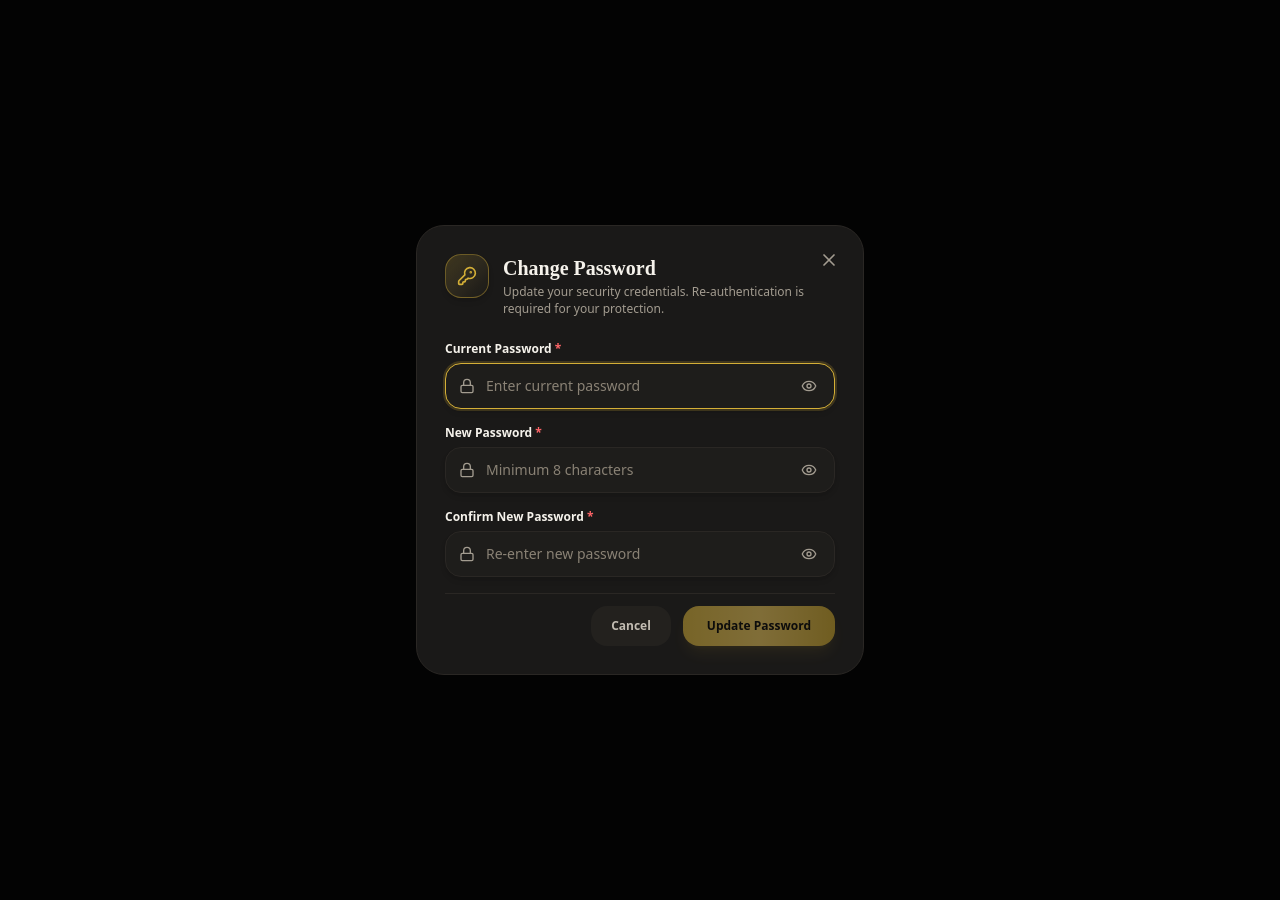
Test: ChangePasswordModal › shows error if confirm password does not match
This screenshot has width=1280, height=900.
Type "NewPass123!" into the password field with placeholder "Minimum 8 characters" at (640, 470), box [445,447,835,493]
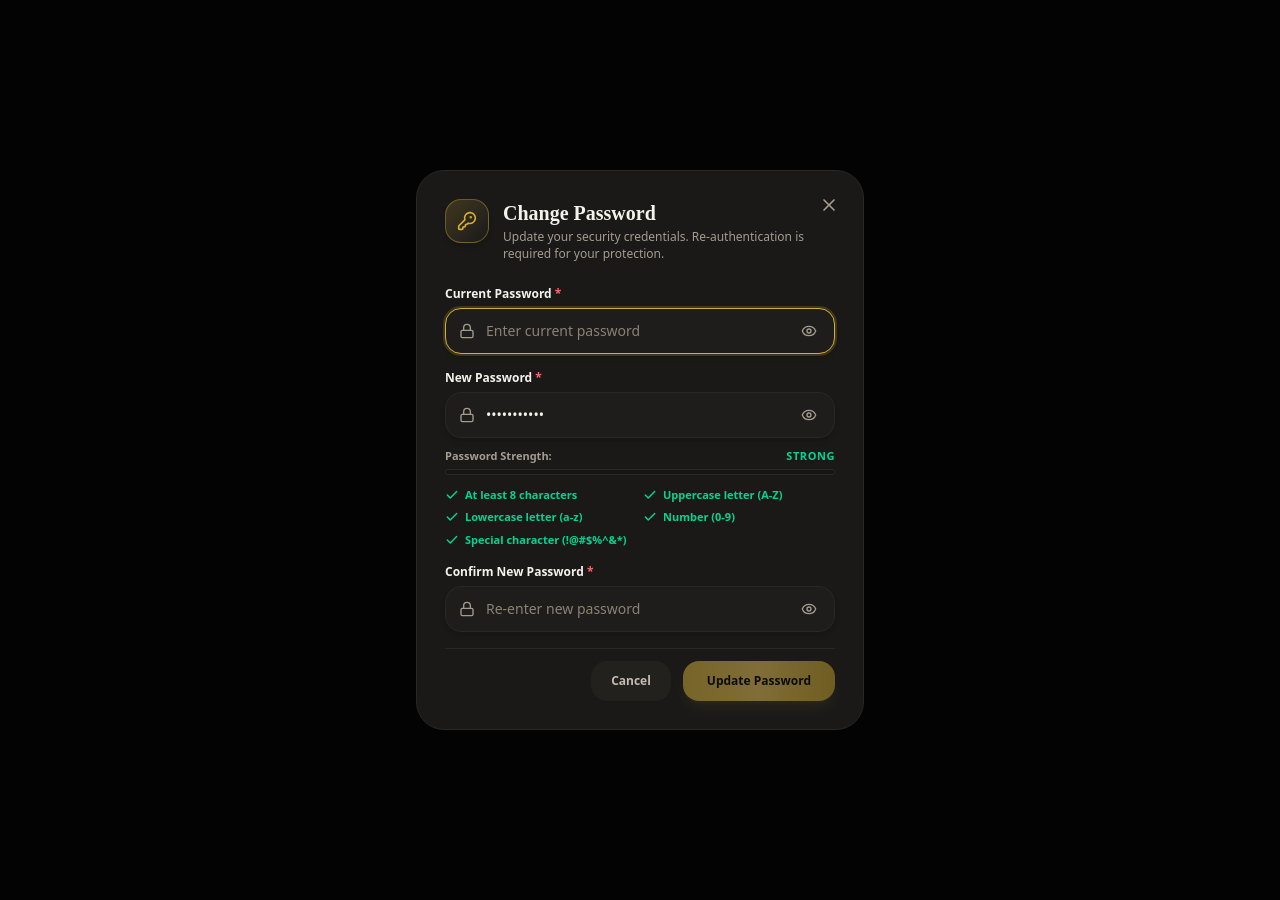
Type "Different123!" into the password field with placeholder "Re-enter new password" at (640, 609), box [445,586,835,632]
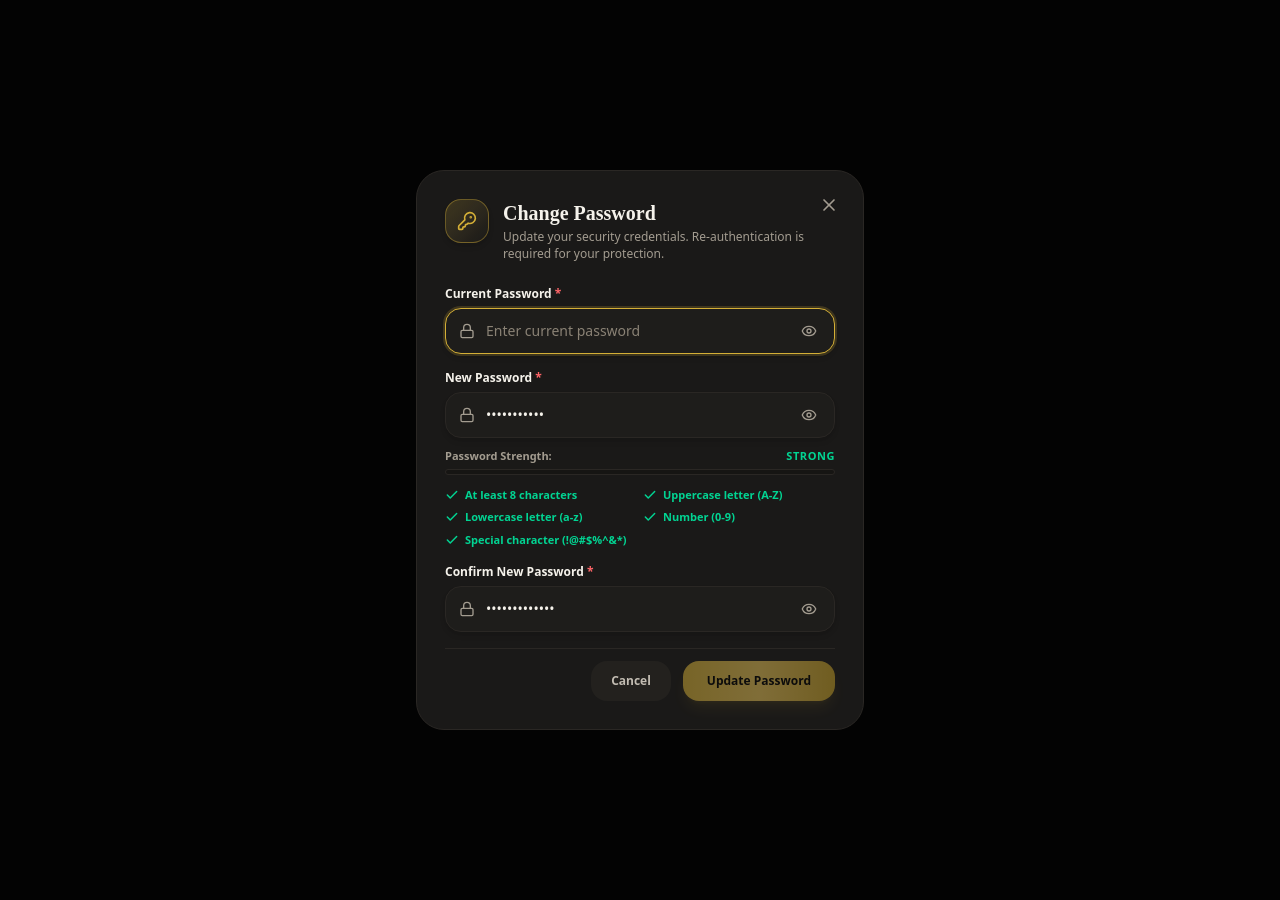
Leave the password field with placeholder "Re-enter new password", box [445,586,835,632]
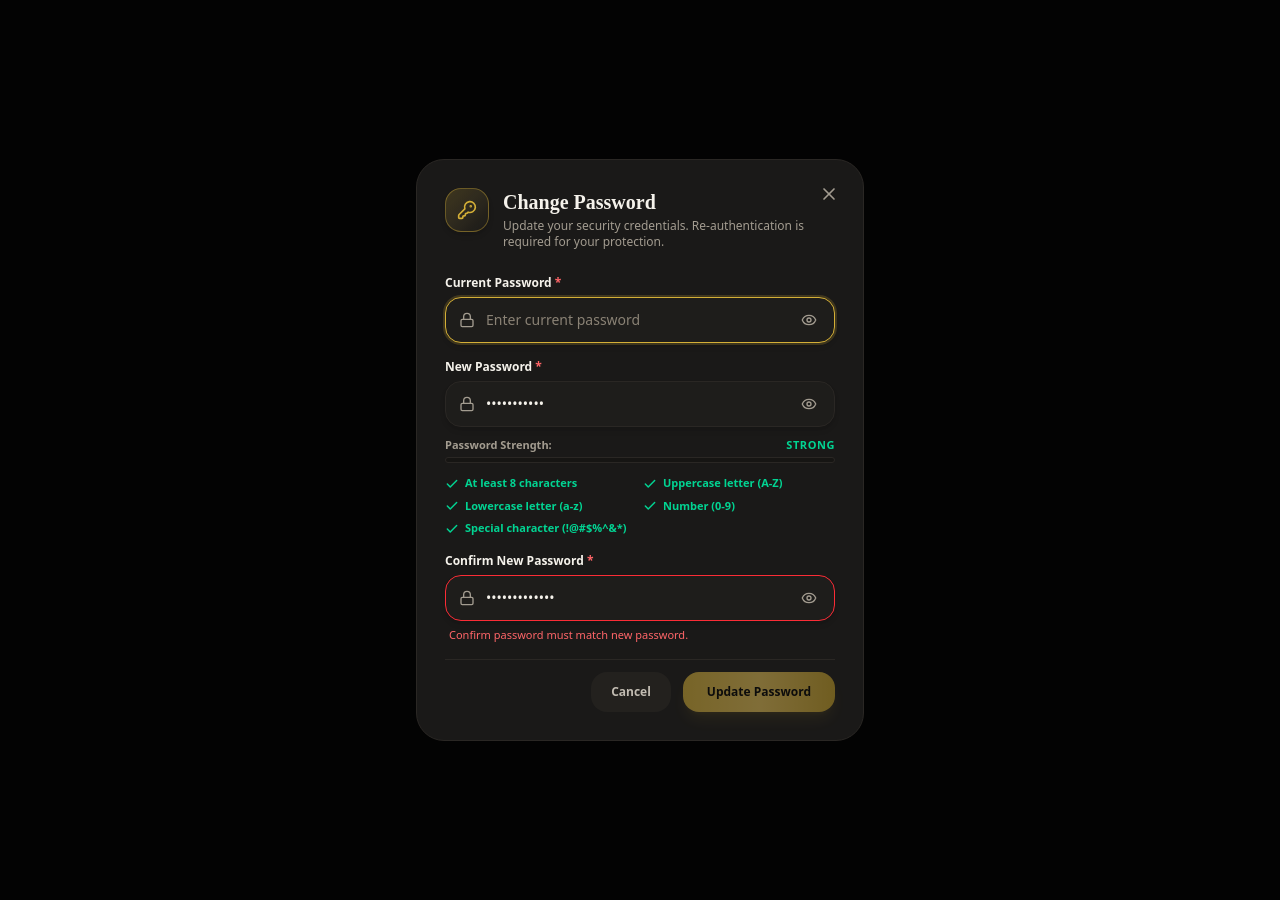
Expected: the text "Confirm password must match new password." is shown, [449,627,688,642]
